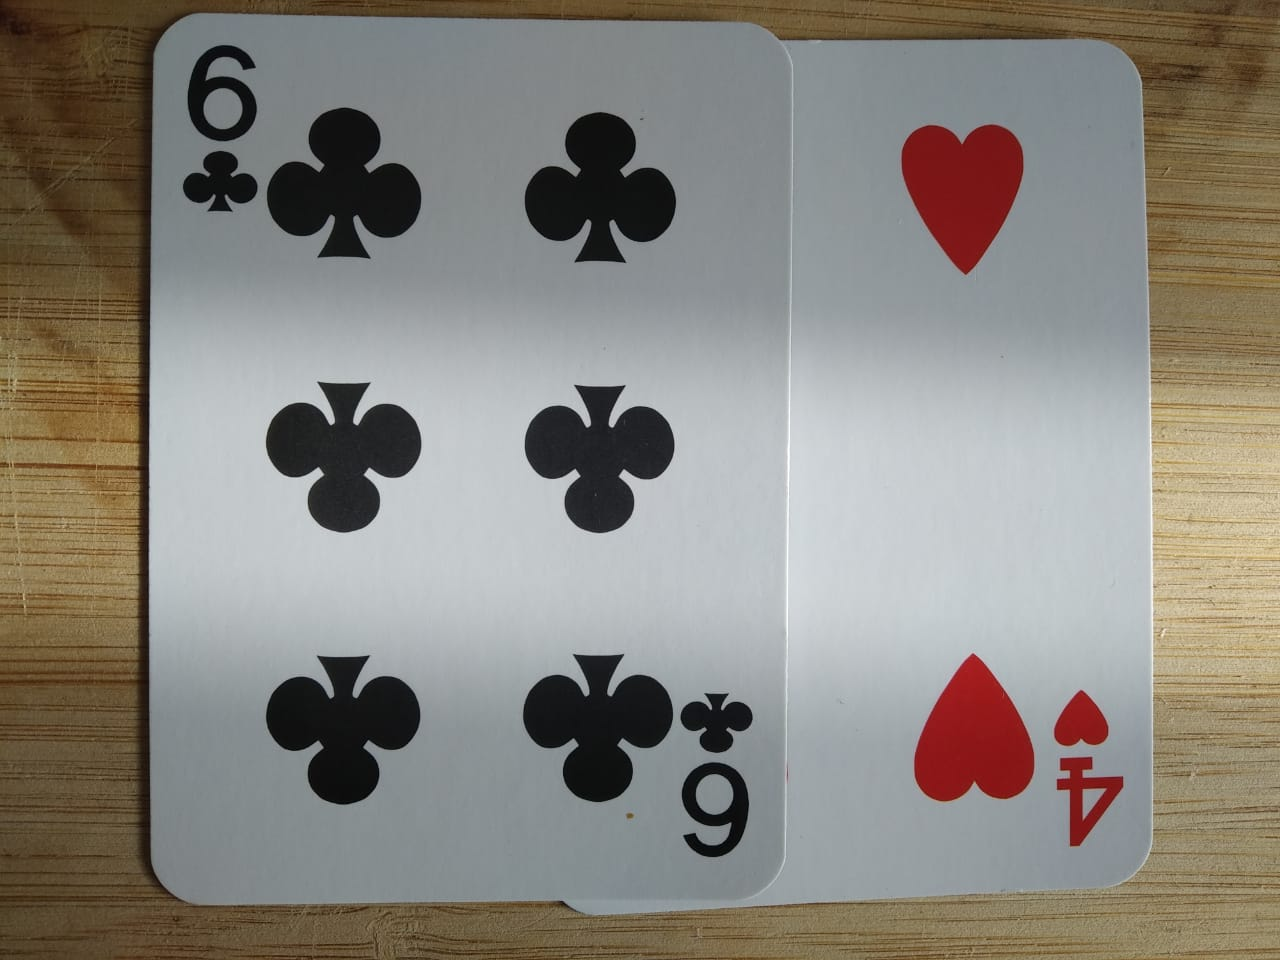four: (533, 6, 1186, 918)
six: (129, 8, 799, 915)
